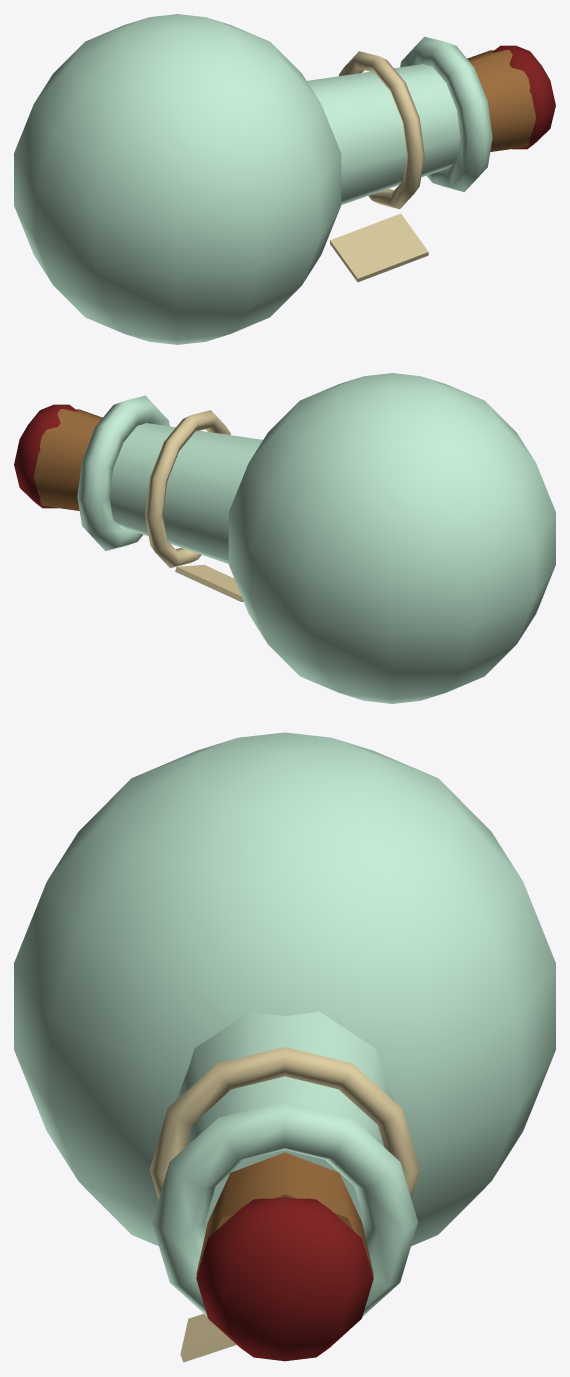
The model's file is poison-vial.glb.
3 views of the same model, one above another, from view 1: azimuth 30°, elevation 25°; view 2: azimuth 150°, elevation 25°; view 3: azimuth 270°, elevation 25° (orthographic). The views are drawn at different scales.
Visible parts, largest first — view 1: Mesh_Bulb, Mesh_Neck, Mesh_Lip, Mesh_Cork, Mesh_Tag, Mesh_Cord, Mesh_Wax; view 2: Mesh_Bulb, Mesh_Neck, Mesh_Lip, Mesh_Cork, Mesh_Cord, Mesh_Wax, Mesh_Tag; view 3: Mesh_Bulb, Mesh_Wax, Mesh_Lip, Mesh_Neck, Mesh_Cord, Mesh_Cork, Mesh_Tag.
Part boxes in pixels (x1,y1,x2,y2): Mesh_Bulb: [14, 14, 341, 344]; Mesh_Neck: [307, 64, 460, 204]; Mesh_Lip: [400, 36, 492, 191]; Mesh_Cork: [467, 50, 535, 151]; Mesh_Tag: [330, 213, 428, 282]; Mesh_Cord: [339, 51, 424, 209]; Mesh_Wax: [492, 45, 555, 149]; Mesh_Bulb: [228, 373, 555, 703]; Mesh_Neck: [109, 423, 262, 563]; Mesh_Lip: [77, 395, 169, 550]; Mesh_Cork: [34, 409, 102, 510]; Mesh_Cord: [145, 410, 230, 568]; Mesh_Wax: [14, 404, 77, 508]; Mesh_Tag: [175, 564, 243, 601]; Mesh_Bulb: [14, 732, 555, 1246]; Mesh_Wax: [196, 1197, 373, 1361]; Mesh_Lip: [152, 1101, 417, 1316]; Mesh_Neck: [176, 1011, 393, 1226]; Mesh_Cord: [149, 1047, 420, 1199]; Mesh_Cork: [196, 1152, 373, 1275]; Mesh_Tag: [180, 1313, 236, 1362].
Size of the model in its own units: 2.2 by 1.24 by 1.22.
